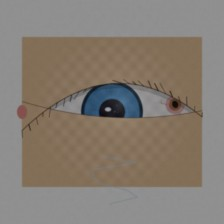foreign_body_visible: (156, 89, 194, 120)
